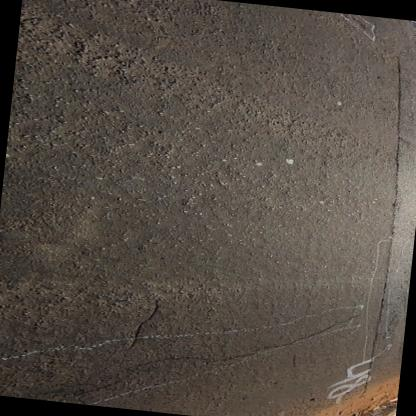manholes: (390, 18, 416, 41)
